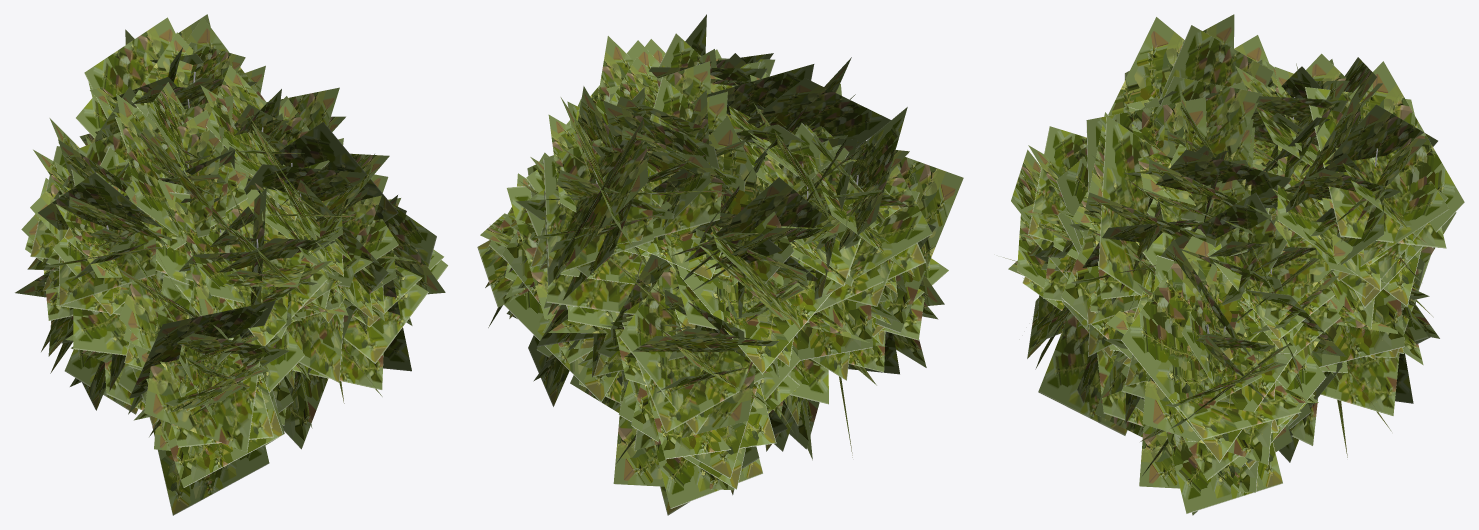
The model's file is Boxwood_Model_0.obj.
3 views of the same model, side by side, from view 1: azimuth 30°, elevation 25°; view 2: azimuth 150°, elevation 25°; view 3: azimuth 270°, elevation 25° (orthographic). The views are drawn at different scales.
Parts seen in each view (by area): view 1: Foliage__leafcard; view 2: Foliage__leafcard; view 3: Foliage__leafcard.
Part boxes in pixels (x1,y1,x2,y2): Foliage__leafcard: [15, 14, 448, 515]; Foliage__leafcard: [477, 14, 963, 515]; Foliage__leafcard: [1003, 14, 1464, 515].
Bounding box in the file's own units: 1.06 × 1 × 0.987.
